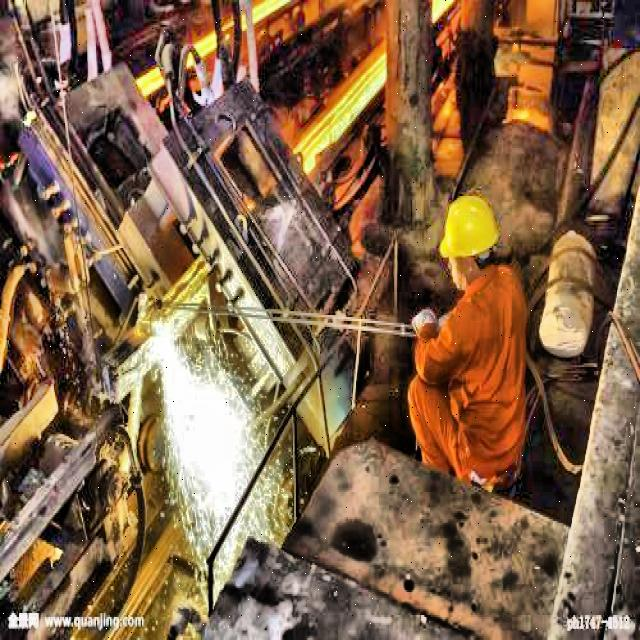helmet: (435, 184, 503, 296)
